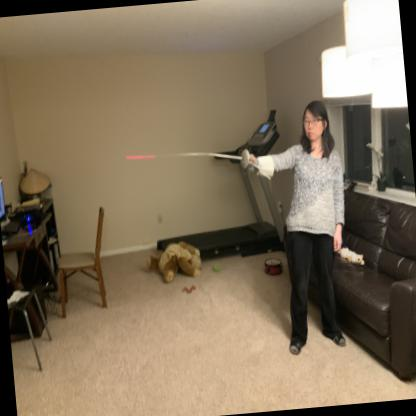foil-tip: (121, 146, 142, 172)
hand-and-foil: (113, 126, 278, 204)
